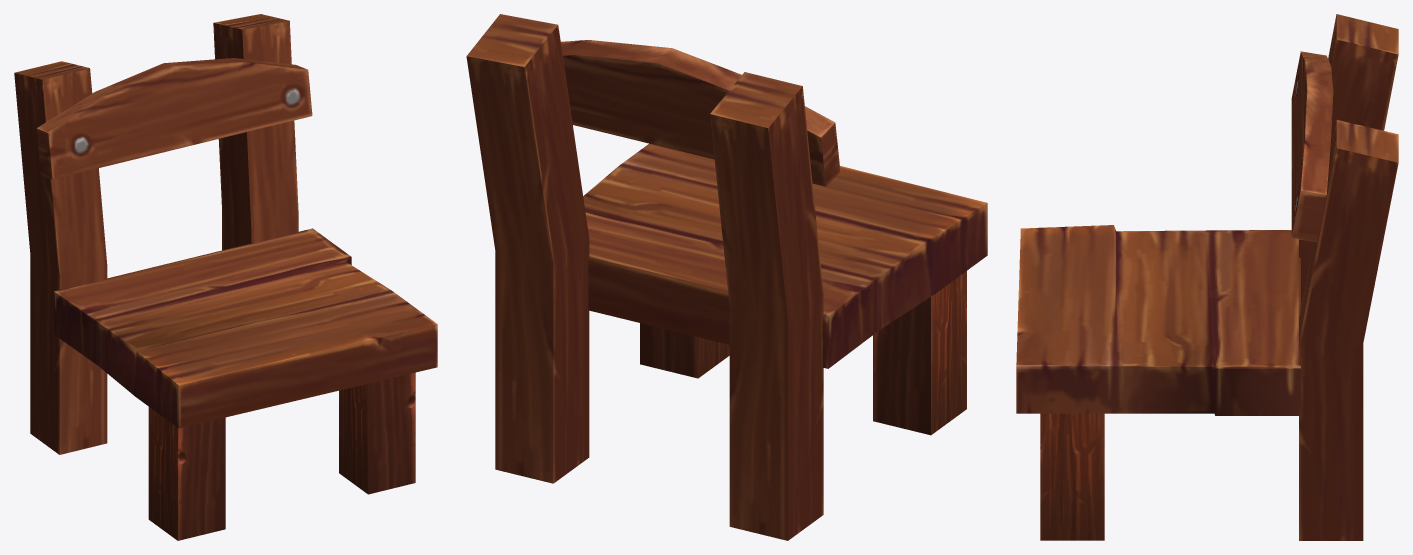
File: YiZi03.FBX
3 renders of one model, left to right at view 1: azimuth 30°, elevation 25°; view 2: azimuth 150°, elevation 25°; view 3: azimuth 270°, elevation 25°, orthographic. The views are drawn at different scales.
Parts seen in each view (by area): view 1: YiZi03; view 2: YiZi03; view 3: YiZi03.
Boxes of the visible parts, bbox=[...] form: YiZi03: bbox=[14, 14, 437, 540]; YiZi03: bbox=[466, 14, 987, 540]; YiZi03: bbox=[1016, 14, 1398, 540].
Bounding box in the file's own units: 38.18 × 50.25 × 43.49.
